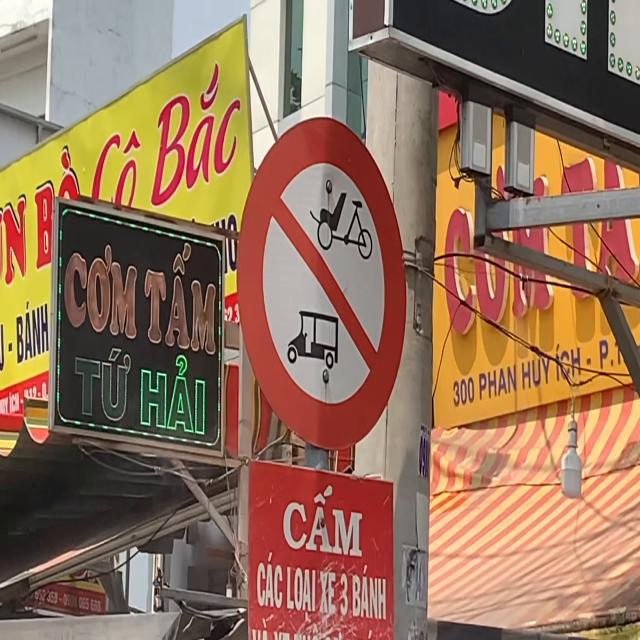Cam con lai: (234, 115, 409, 456)
